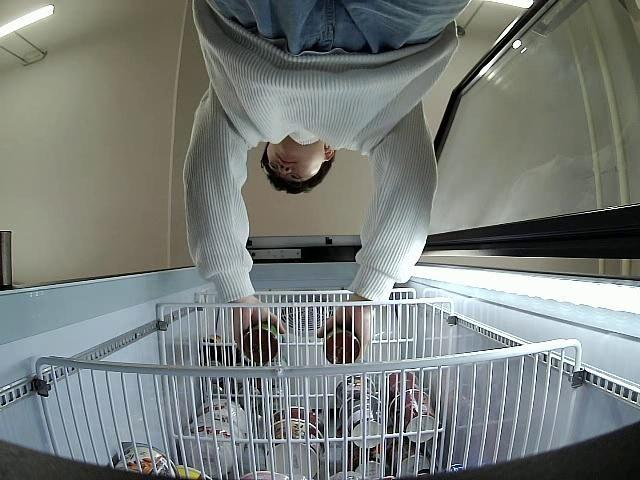19_17cha: (243, 320, 280, 362), (324, 324, 361, 364)
